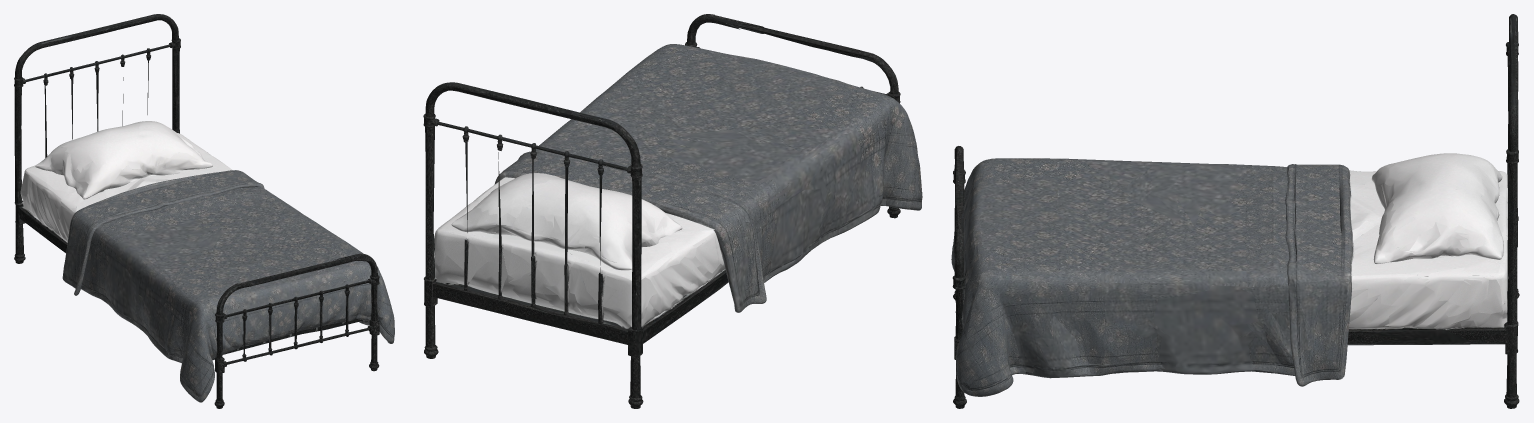
The model's file is letto.glb.
3 renders of one model, left to right at view 1: azimuth 30°, elevation 25°; view 2: azimuth 150°, elevation 25°; view 3: azimuth 270°, elevation 25°, orthographic. The views are drawn at different scales.
Parts seen in each view (by area): view 1: Mesh_0; view 2: Mesh_0; view 3: Mesh_0.
Boxes of the visible parts, box(x1,y1,x2,y2) form: Mesh_0: box(14, 14, 394, 408); Mesh_0: box(423, 14, 922, 408); Mesh_0: box(951, 14, 1519, 408).
Size of the model in its own units: 1.13 by 1.1 by 1.9.
1 material, 1 textured.
